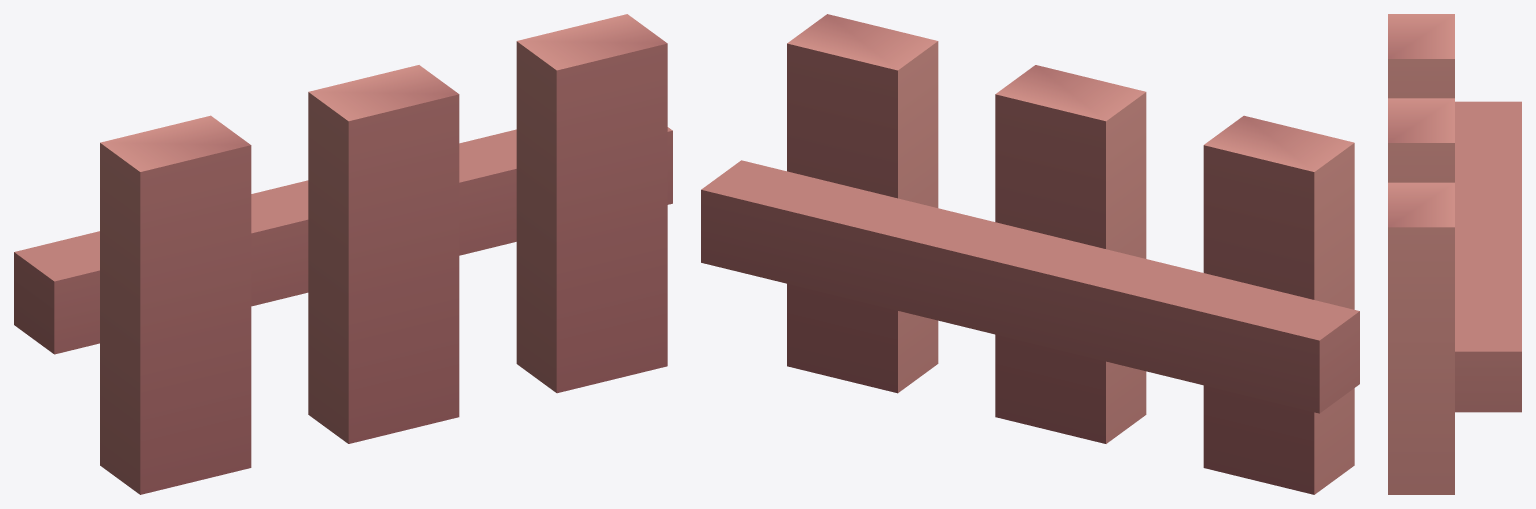
The model's file is Fence_3_2.fbx.
The picture shows the model from 3 angles, left to right: view 1: azimuth 30°, elevation 25°; view 2: azimuth 150°, elevation 25°; view 3: azimuth 270°, elevation 25°; orthographic projection. The views are drawn at different scales.
Visible parts, largest first — view 1: Fence_3_2; view 2: Fence_3_2; view 3: Fence_3_2.
Part boxes in pixels (x1,y1,x2,y2): Fence_3_2: (14, 14, 672, 494); Fence_3_2: (701, 14, 1359, 494); Fence_3_2: (1388, 14, 1521, 494).
Bounding box in the file's own units: 322 × 160 × 72.63.
